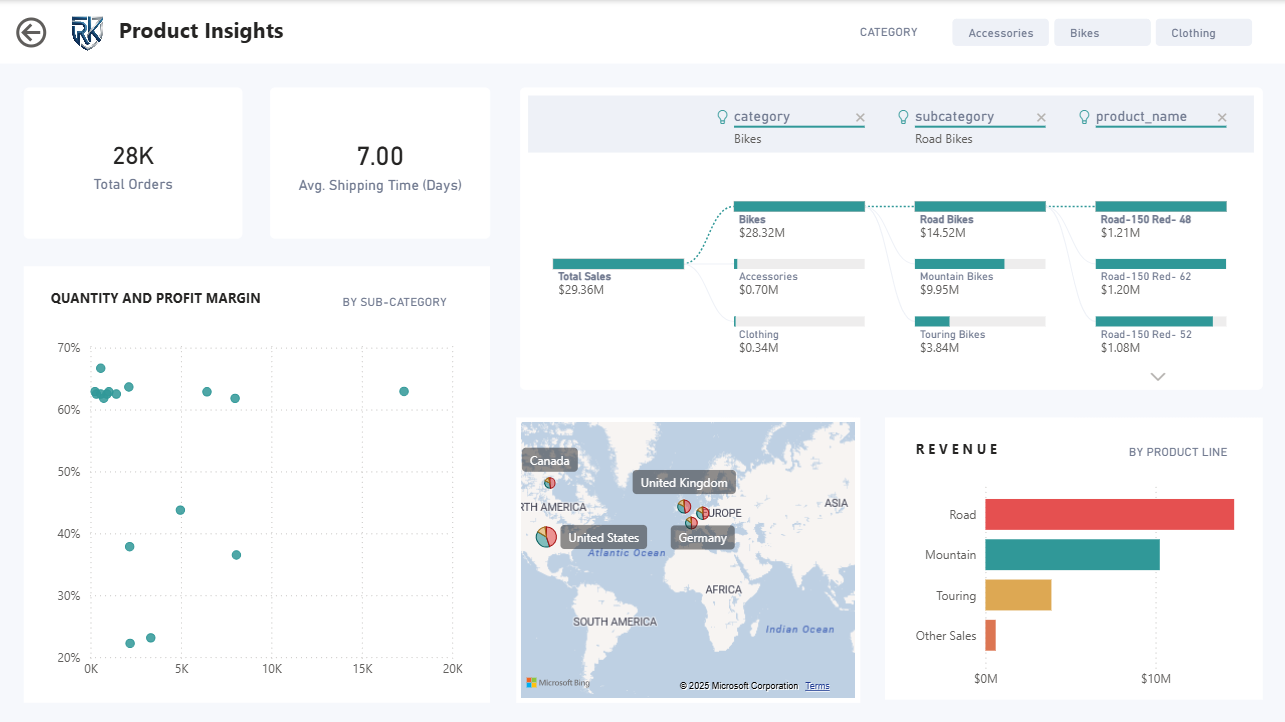

The dashboard page shown, as its layout file describes it:
{"tool":"powerbi","page":{"name":"Product Insights","canvas":[1280,720],"ordinal":4},"visuals":[{"type":"shape","box":[0,0,1280,63.4],"z":0},{"type":"textbox","box":[880.7,415.5,375.7,281.1],"z":0,"group":"g2"},{"type":"textbox","box":[23.6,265,464,434.1],"z":1000},{"type":"actionButton","box":[11.2,12.4,41.1,39.8],"z":2000},{"type":"textbox","box":[113.2,10,190.3,42.3],"z":3000},{"type":"map","fields":{"Category":["dim_customers.country"],"Size":["_measure.Total Sales"],"Series":["dim_products.product_line"]},"box":[513.8,415.5,342.1,283.6],"z":4000},{"type":"card","fields":{"Values":["_measure.Total Orders"]},"box":[23.6,87.1,217.7,150.5],"z":5000},{"type":"textbox","box":[1118.4,434.2,118.2,33.6],"z":5000,"group":"g2"},{"type":"card","fields":{"Values":["_measure.Avg. Shipping Time (Days)"]},"box":[268.7,87.1,218.9,150.5],"z":6000},{"type":"textbox","box":[335.9,284.9,118.2,33.6],"z":7000},{"type":"decompositionTreeVisual","fields":{"Analyze":["_measure.Total Sales"],"ExplainBy":["dim_products.category","dim_products.subcategory","dim_products.product_name"]},"box":[517.5,87.1,738.9,301],"z":8000},{"type":"group","id":"g1","title":"Group 1","box":[850.8,13.9,401.8,37.3],"z":9000},{"type":"group","id":"g2","title":"Group 2","box":[880.7,415.5,375.7,281.1],"z":10000},{"type":"scatterChart","fields":{"X":["_measure.Total Quantity Sold"],"Y":["_measure.Profit Margin"],"Category":["dim_products.subcategory"]},"box":[52.2,332.1,413,352],"z":11000},{"type":"image","box":[69.7,12.4,34.8,41.1],"z":12000},{"type":"barChart","fields":{"Category":["dim_products.product_line"],"Y":["_measure.Total Sales"]},"box":[901.3,467.7,353.9,226.4],"z":13000,"group":"g2"},{"type":"advancedSlicerVisual","fields":{"Values":["dim_products.category"]},"box":[942.9,13.9,309.7,37.3],"z":23000,"group":"g1"},{"type":"textbox","box":[850.8,16.6,88.3,33.6],"z":24000,"group":"g1"}]}

Visuals, with their boxes in screenshot pixels (x1, y1, x2, y2), scaled from the page's 1280x720 canvas onto the 1285x722 screenshot:
shape: [left=0, top=0, right=1284, bottom=64]
textbox: [left=884, top=417, right=1261, bottom=699]
textbox: [left=24, top=266, right=490, bottom=701]
actionButton: [left=11, top=12, right=53, bottom=52]
textbox: [left=114, top=10, right=305, bottom=52]
map - dim_customers.country x _measure.Total Sales: [left=516, top=417, right=859, bottom=701]
card - _measure.Total Orders: [left=24, top=87, right=242, bottom=238]
textbox: [left=1123, top=435, right=1241, bottom=469]
card - _measure.Avg. Shipping Time (Days): [left=270, top=87, right=490, bottom=238]
textbox: [left=337, top=286, right=456, bottom=319]
decompositionTreeVisual - _measure.Total Sales x dim_products.category: [left=520, top=87, right=1261, bottom=389]
"Group 1" group: [left=854, top=14, right=1257, bottom=51]
"Group 2" group: [left=884, top=417, right=1261, bottom=699]
scatterChart - _measure.Total Quantity Sold x _measure.Profit Margin: [left=52, top=333, right=467, bottom=686]
image: [left=70, top=12, right=105, bottom=54]
barChart - dim_products.product_line x _measure.Total Sales: [left=905, top=469, right=1260, bottom=696]
advancedSlicerVisual - dim_products.category: [left=947, top=14, right=1257, bottom=51]
textbox: [left=854, top=17, right=943, bottom=50]
